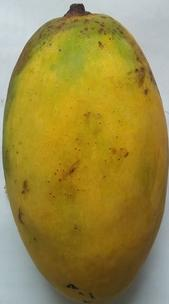Ripe: (1, 1, 169, 304)
